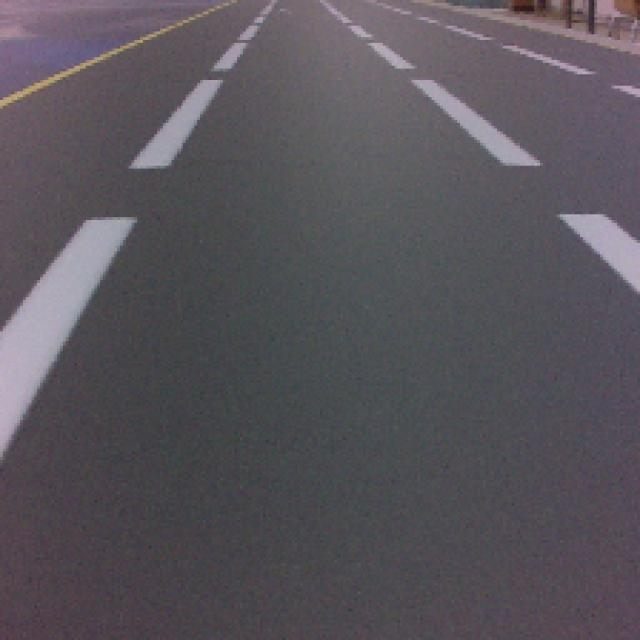Road: (1, 372, 640, 632)
